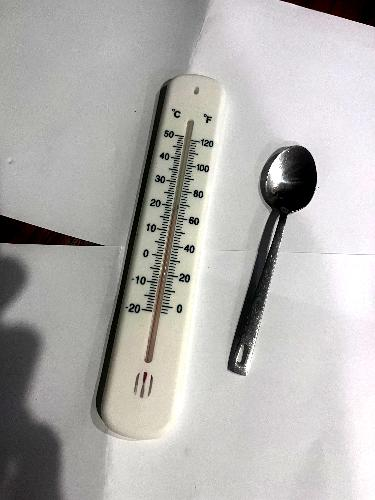thermo: (96, 68, 246, 443)
